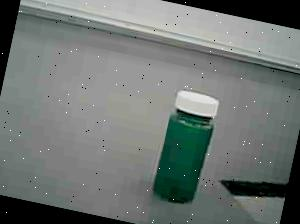Bottle C: (140, 74, 229, 212)
